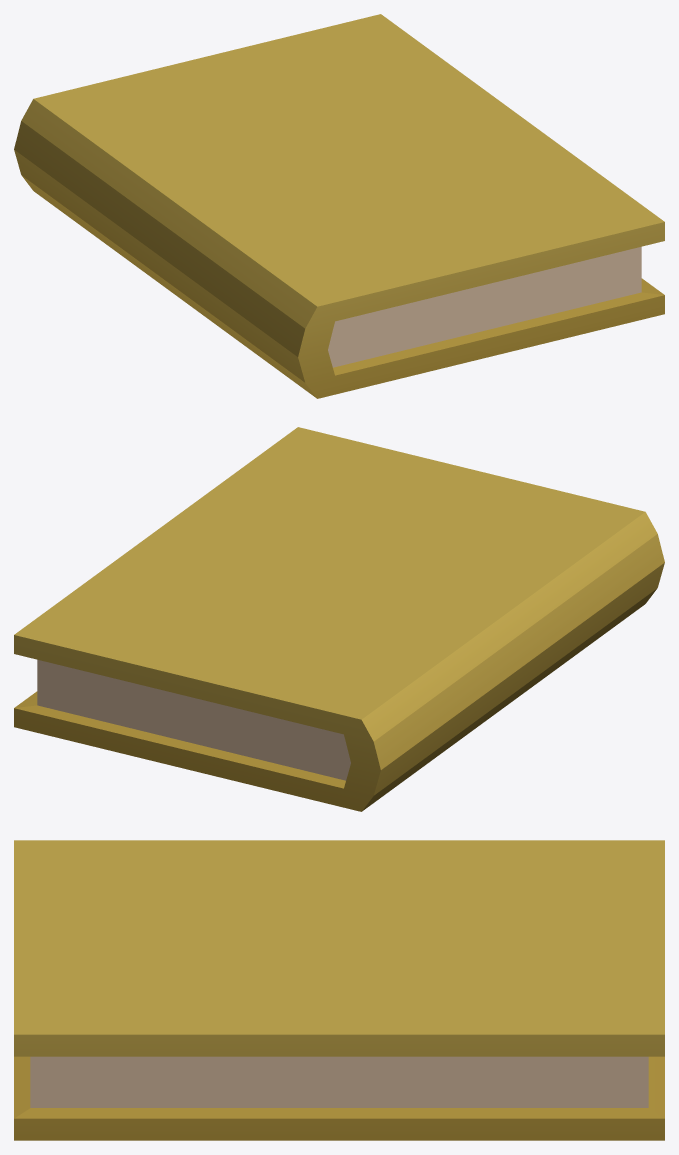
Rendered from Book_03.fbx.
3 renders of one model, top to bottom at view 1: azimuth 30°, elevation 25°; view 2: azimuth 150°, elevation 25°; view 3: azimuth 270°, elevation 25°, orthographic. The views are drawn at different scales.
Visible parts, largest first — view 1: Book_03; view 2: Book_03; view 3: Book_03.
Part boxes in pixels (x1=…): Book_03: x1=14, y1=14, x2=664, y2=398; Book_03: x1=14, y1=427, x2=664, y2=811; Book_03: x1=14, y1=840, x2=664, y2=1140.
Size of the model in its own units: 19.89 by 4.78 by 26.67.
